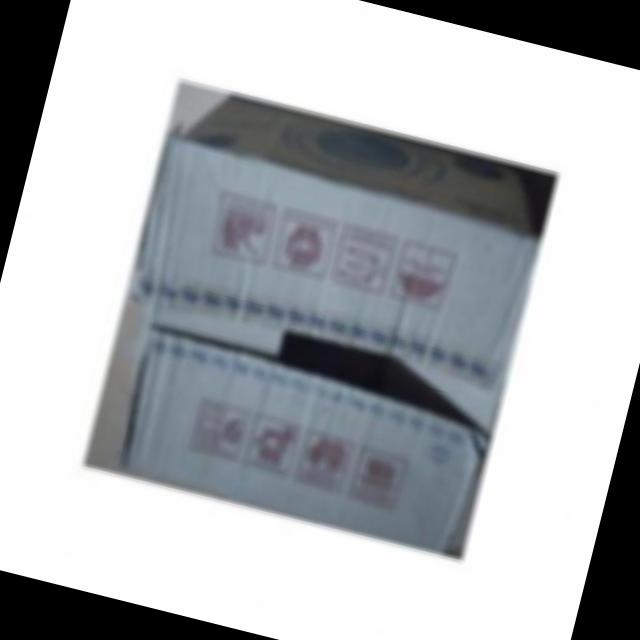box: (86, 84, 553, 554)
